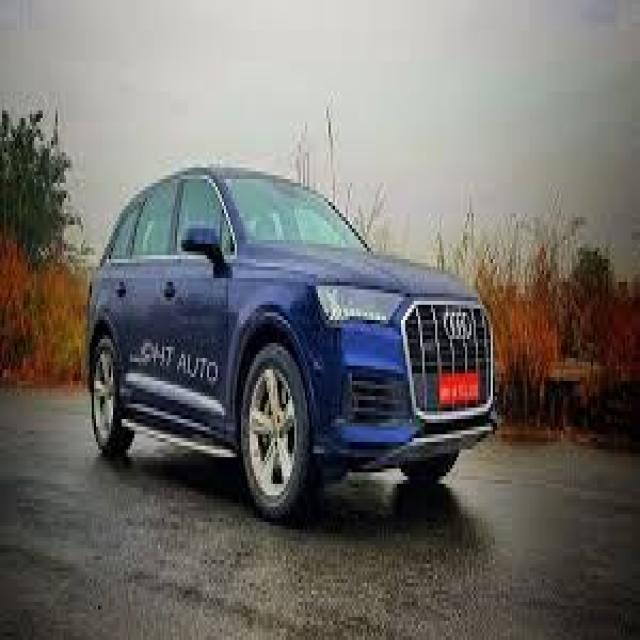SUV: (83, 163, 497, 527)
